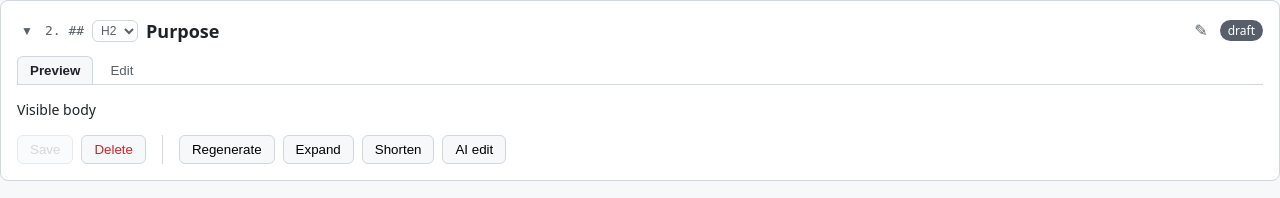
Test: SectionCard › collapses and expands like an accordion
Expected: the text "2. ##" is shown, [45,23,84,38]
Expected: the text "Visible body" is shown, [17,100,96,119]
What coordinates should you click on to do the following:
click the button named "Collapse section Purpose"
I would click on:
 (27, 30)
Its box is [17,20,37,42].
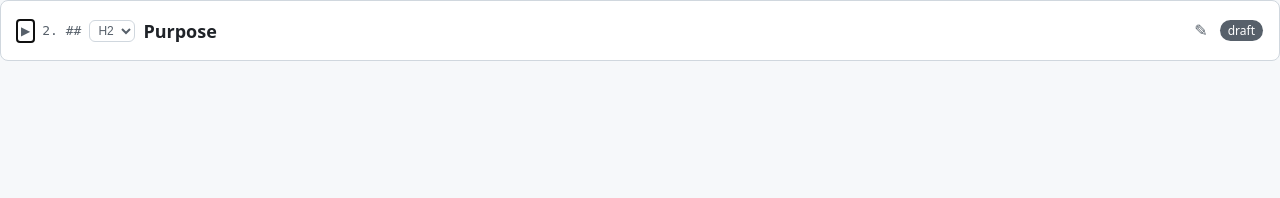
Expected: the heading "Purpose" is shown, [143,18,217,42]
Expected: the text "Visible body" is gone
What coordinates should you click on to do the following:
click the button named "Expand section Purpose"
I would click on:
 (26, 30)
Its box is [17,20,34,42].
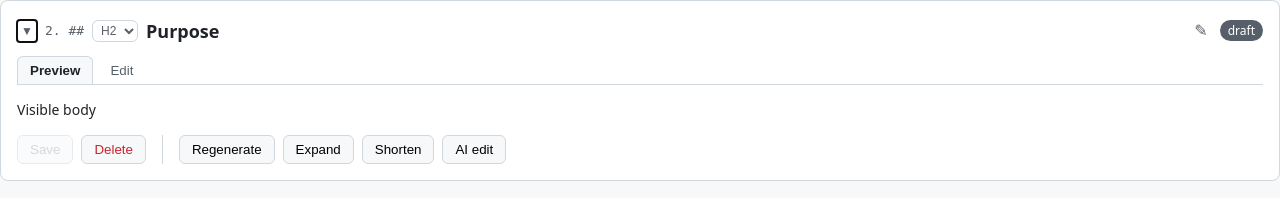
Expected: the text "Visible body" is shown, [17,100,96,119]
